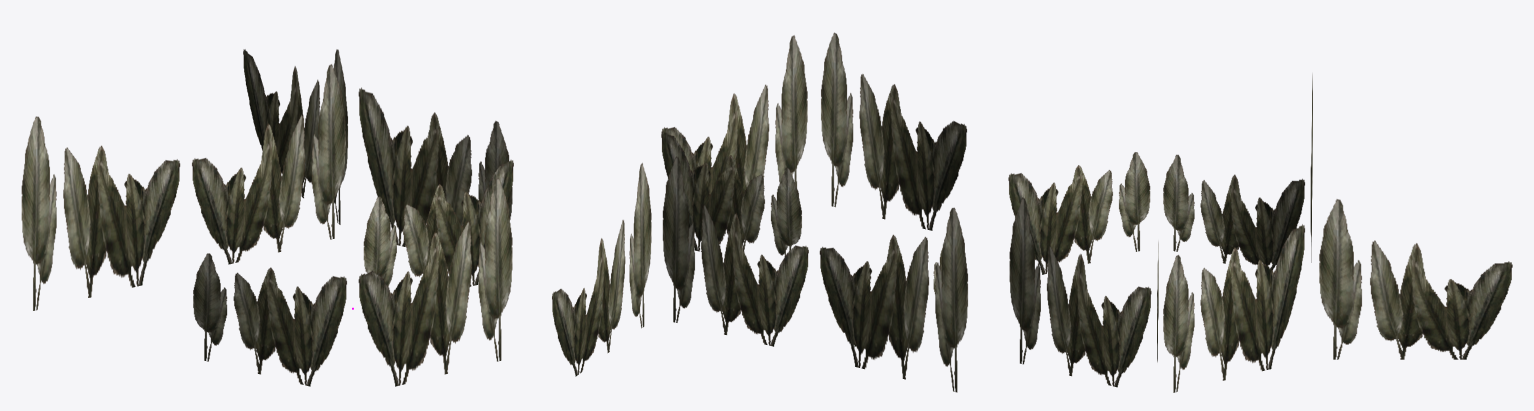
The model's file is mveg3c.glb.
3 views of the same model, side by side, from view 1: azimuth 30°, elevation 25°; view 2: azimuth 150°, elevation 25°; view 3: azimuth 270°, elevation 25° (orthographic). The views are drawn at different scales.
Parts seen in each view (by area): view 1: 01 Mesh0; view 2: 01 Mesh0; view 3: 01 Mesh0.
Boxes of the visible parts, x1,y1,x2,y2 form: 01 Mesh0: [21, 49, 513, 386]; 01 Mesh0: [552, 32, 967, 392]; 01 Mesh0: [1008, 74, 1512, 392].
Size of the model in its own units: 4.74 by 2.26 by 5.47.
2 materials, 1 textured.
